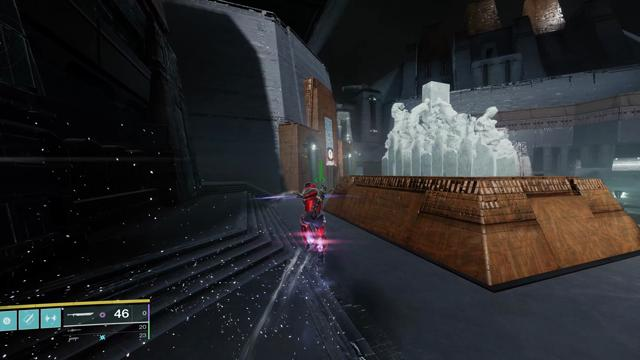worship: (328, 149, 333, 160)
